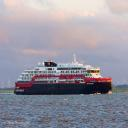cruises: (14, 54, 114, 99)
